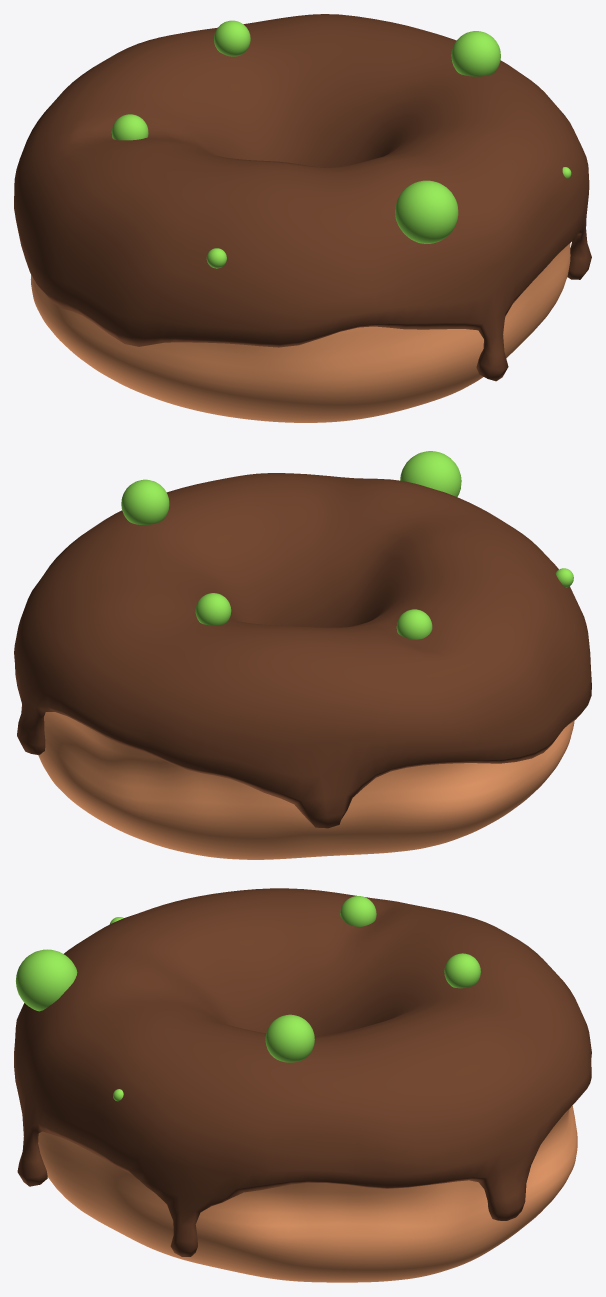
The model's file is Donet.glb.
The picture shows the model from 3 angles, top to bottom: view 1: azimuth 30°, elevation 25°; view 2: azimuth 150°, elevation 25°; view 3: azimuth 270°, elevation 25°; orthographic projection. The views are drawn at different scales.
Visible parts, largest first — view 1: icing; view 2: icing; view 3: icing.
Boxes of the visible parts, left/top/right/bottom form: icing: left=14, top=14, right=591, bottom=422; icing: left=14, top=451, right=591, bottom=859; icing: left=14, top=888, right=591, bottom=1282.
Bounding box in the file's own units: 0.0965 × 0.0492 × 0.0972.
3 materials, 1 textured.
